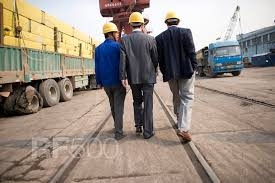Person_wearing_helmet: (99, 19, 119, 35)
